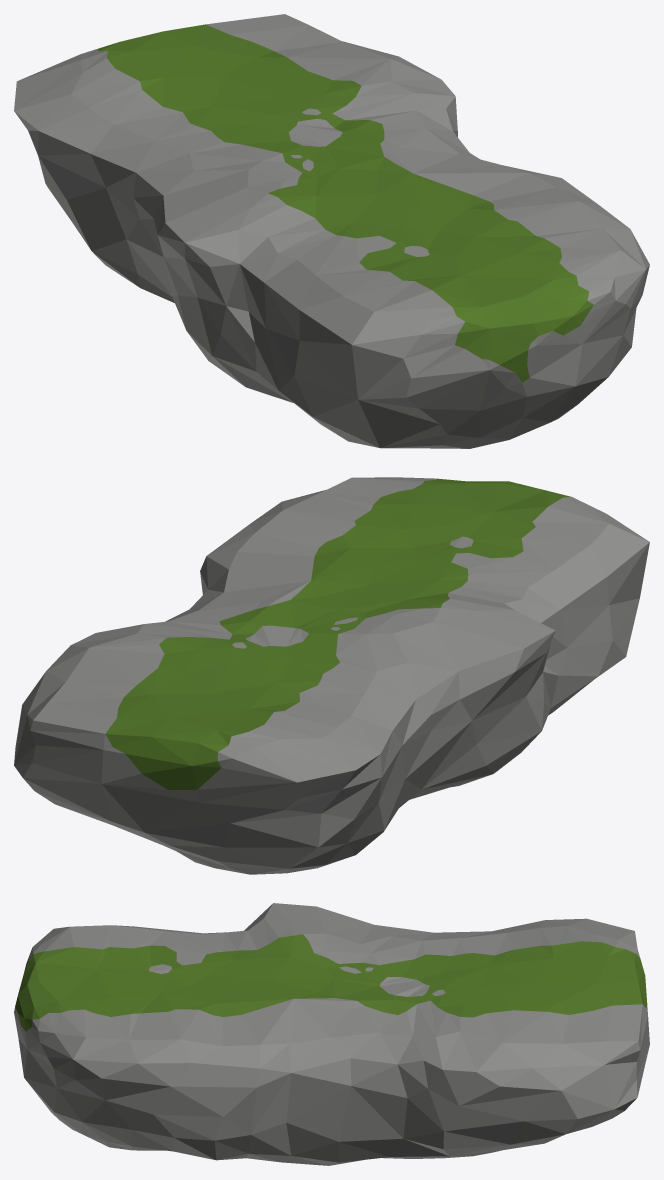
The model's file is Cavern_FloorGrass_Narrow_Straight-02.fbx.
3 views of the same model, one above another, from view 1: azimuth 30°, elevation 25°; view 2: azimuth 150°, elevation 25°; view 3: azimuth 270°, elevation 25° (orthographic). The views are drawn at different scales.
Parts seen in each view (by area): view 1: Cavern_FloorGrass_Narrow_Straight-02; view 2: Cavern_FloorGrass_Narrow_Straight-02; view 3: Cavern_FloorGrass_Narrow_Straight-02.
Part boxes in pixels (x1,y1,x2,y2): Cavern_FloorGrass_Narrow_Straight-02: [14, 14, 649, 448]; Cavern_FloorGrass_Narrow_Straight-02: [14, 477, 649, 874]; Cavern_FloorGrass_Narrow_Straight-02: [14, 903, 649, 1165].
Bounding box in the file's own units: 1012 × 503 × 1744.
1 material, 1 textured.
